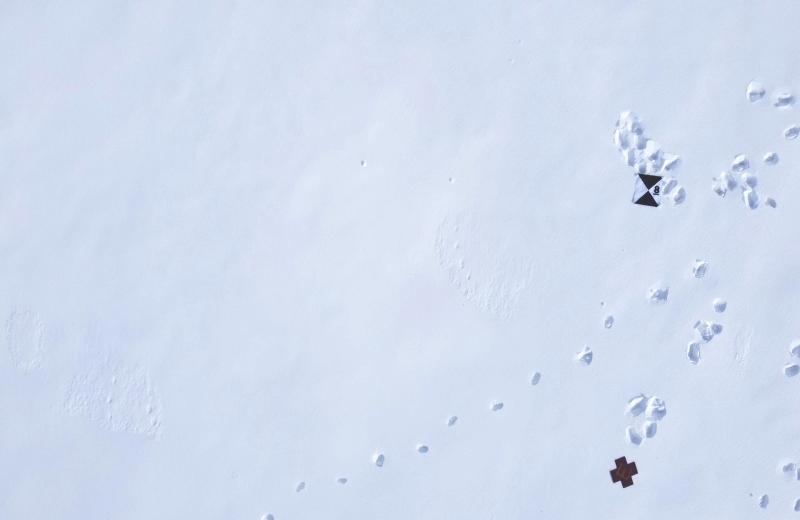Cross: (608, 454, 640, 494)
